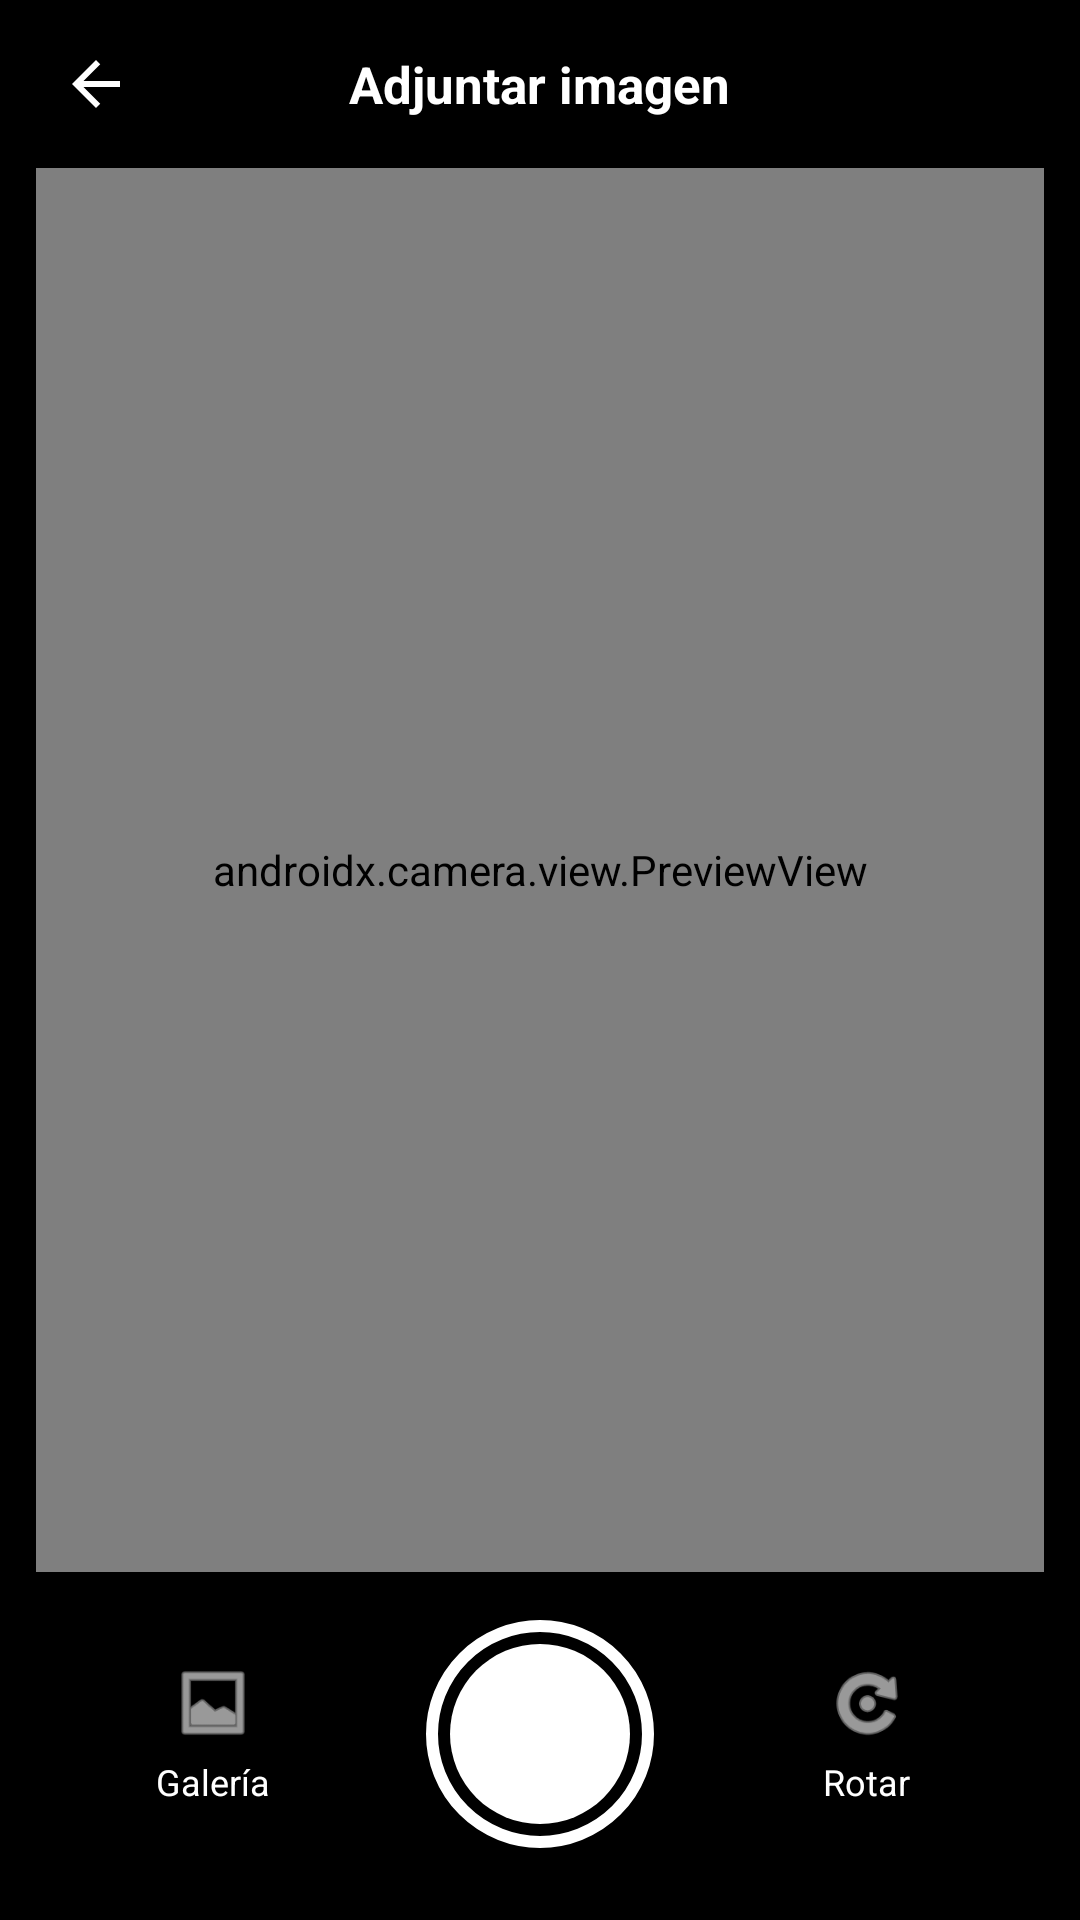

Icon bounding boxes for this 1080px x 1920px phone screenshot, format region(x1, y1, x2, y2):
Volver: region(72, 60, 120, 108)
